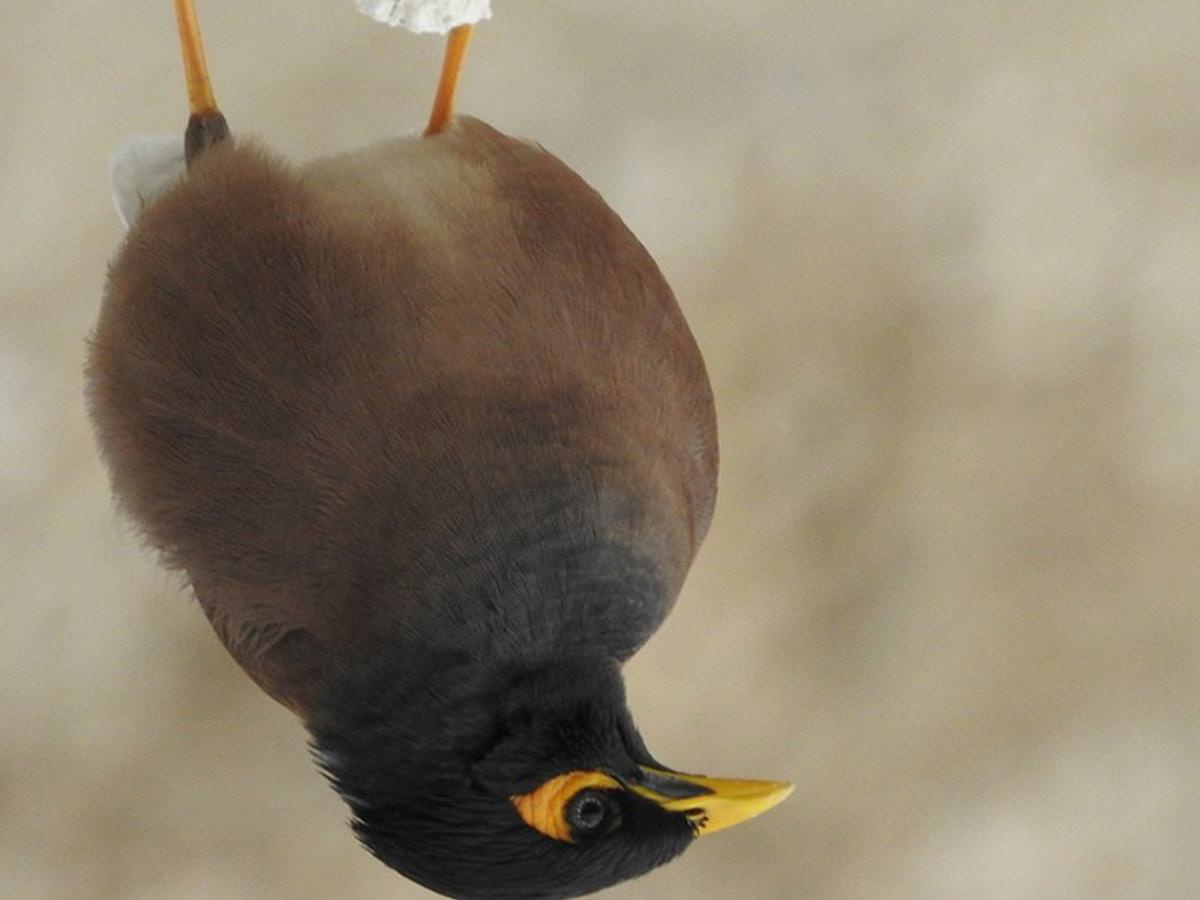myna: (137, 55, 803, 898)
